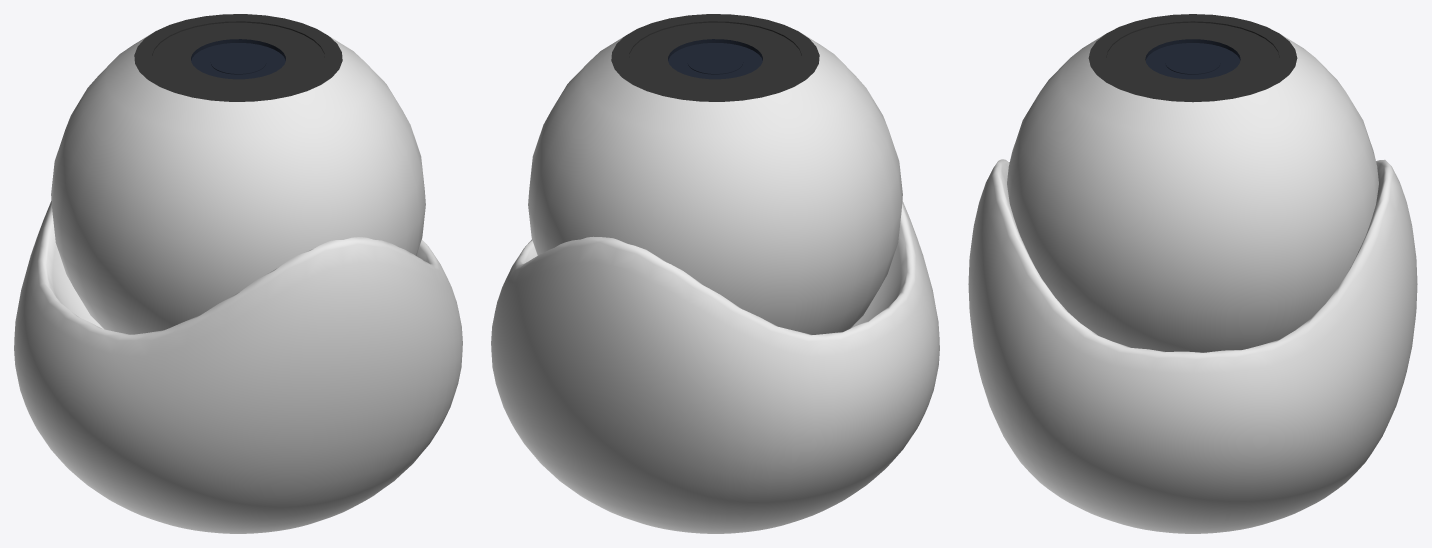
The model's file is камера.fbx.
3 views of the same model, side by side, from view 1: azimuth 30°, elevation 25°; view 2: azimuth 150°, elevation 25°; view 3: azimuth 270°, elevation 25° (orthographic).
Visible parts, largest first — view 1: Sphere, Sphere.001; view 2: Sphere, Sphere.001; view 3: Sphere.001, Sphere.
Boxes of the visible parts, x1,y1,x2,y2 form: Sphere: [14, 200, 462, 533]; Sphere.001: [51, 14, 425, 334]; Sphere: [491, 200, 939, 533]; Sphere.001: [528, 14, 902, 334]; Sphere.001: [1007, 14, 1378, 352]; Sphere: [968, 159, 1417, 533].
Bounding box in the file's own units: 197 × 219 × 197.
